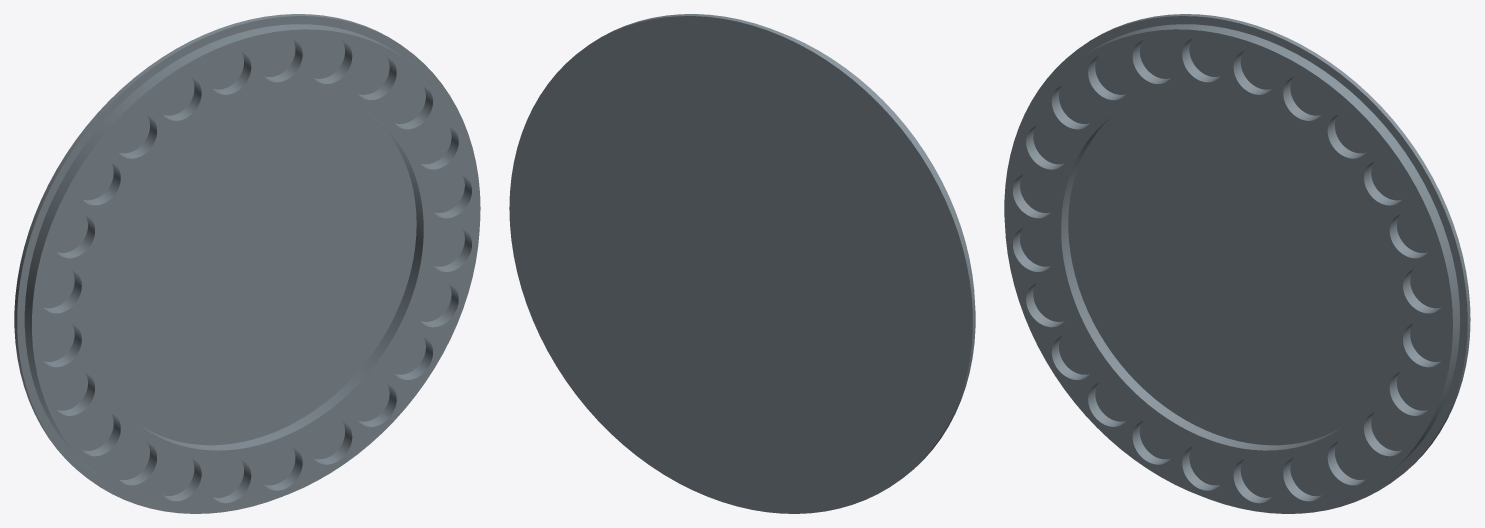
Rendered from Bottom_Tray.glb.
The picture shows the model from 3 angles, left to right: view 1: azimuth 30°, elevation 25°; view 2: azimuth 150°, elevation 25°; view 3: azimuth 330°, elevation 25°; orthographic projection.
Parts seen in each view (by area): view 1: Bottom_Tray_0; view 2: Bottom_Tray_0; view 3: Bottom_Tray_0.
Part boxes in pixels (x1=…): Bottom_Tray_0: x1=14, y1=14, x2=480, y2=513; Bottom_Tray_0: x1=509, y1=14, x2=975, y2=513; Bottom_Tray_0: x1=1004, y1=14, x2=1470, y2=513.
Bounding box in the file's own units: 57.98 × 57.99 × 2.15.
